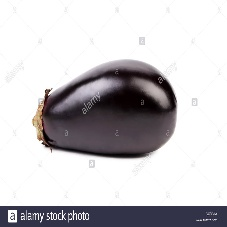eggplant: (41, 58, 179, 157)
